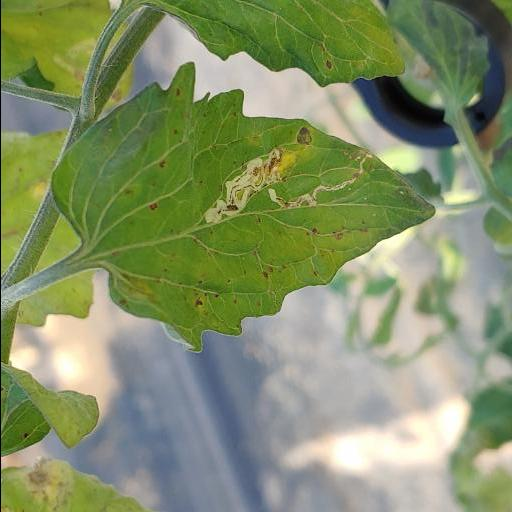Leaf Miner: (48, 60, 436, 355)
